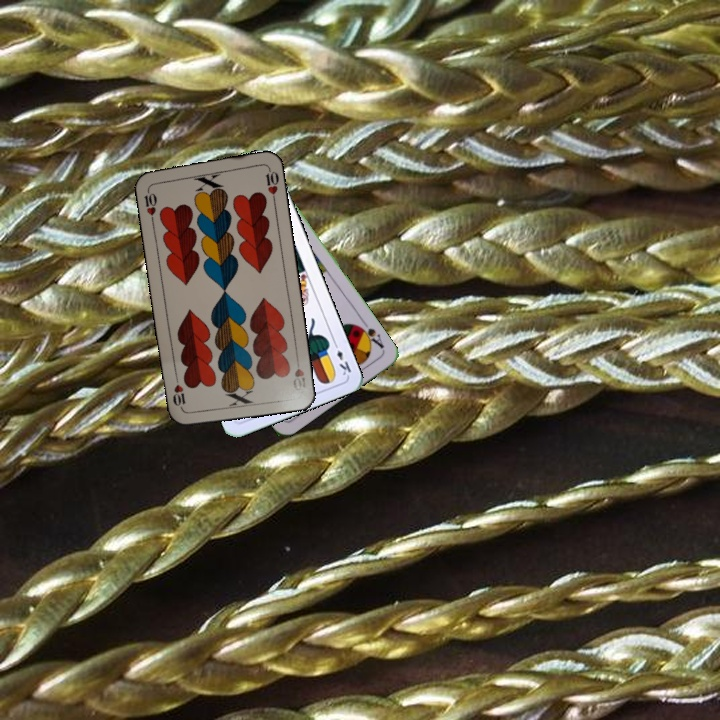EK: (329, 338, 354, 378)
H10: (288, 353, 309, 393), (140, 184, 159, 224)
SA: (353, 321, 386, 351)
